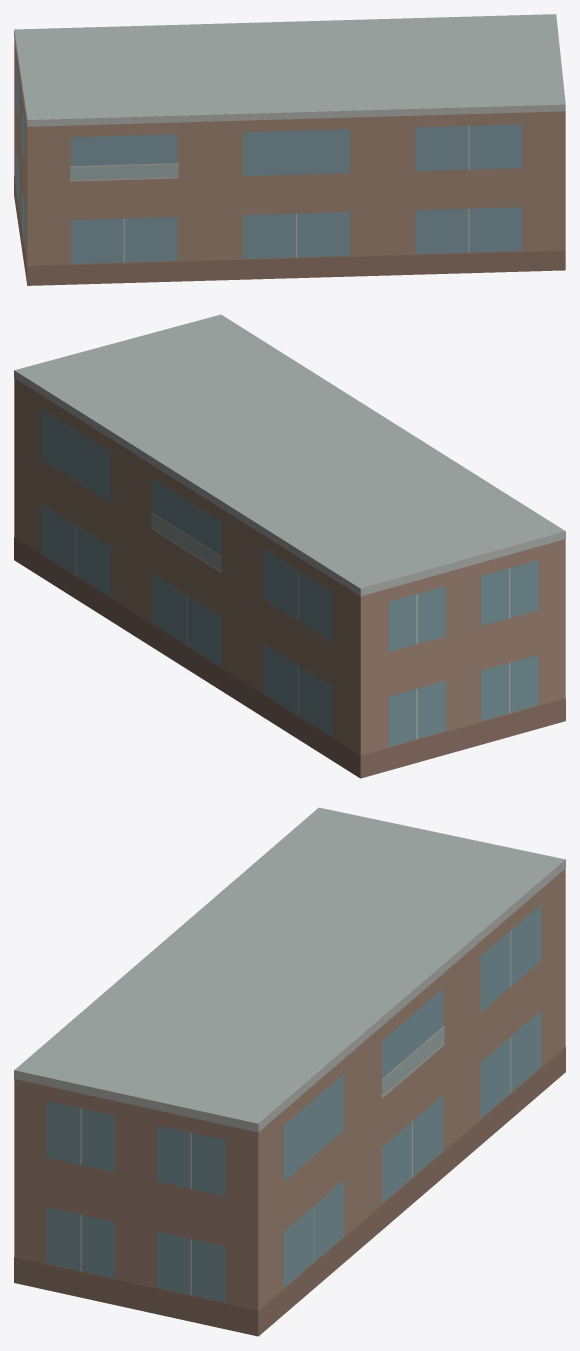
The model's file is survey-upis-32845391.glb.
The picture shows the model from 3 angles, top to bottom: view 1: azimuth 30°, elevation 25°; view 2: azimuth 150°, elevation 25°; view 3: azimuth 270°, elevation 25°; orthographic projection. The views are drawn at different scales.
Parts seen in each view (by area): view 1: survey-upis-32845391.tmp; view 2: survey-upis-32845391.tmp; view 3: survey-upis-32845391.tmp.
Part boxes in pixels (x1,y1,x2,y2): survey-upis-32845391.tmp: (14, 14, 565, 285); survey-upis-32845391.tmp: (14, 314, 565, 778); survey-upis-32845391.tmp: (14, 807, 565, 1336).
Size of the model in its own units: 19.15 by 6 by 14.12.
